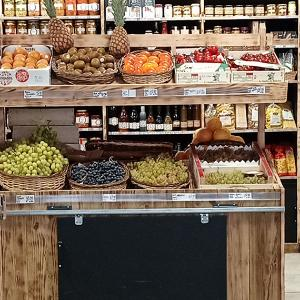grape: (0, 128, 62, 188), (68, 154, 132, 194), (132, 152, 188, 194), (199, 160, 269, 190), (195, 137, 262, 163)
kiwi: (59, 48, 115, 82)
tomato: (175, 44, 227, 82), (226, 50, 284, 80)
